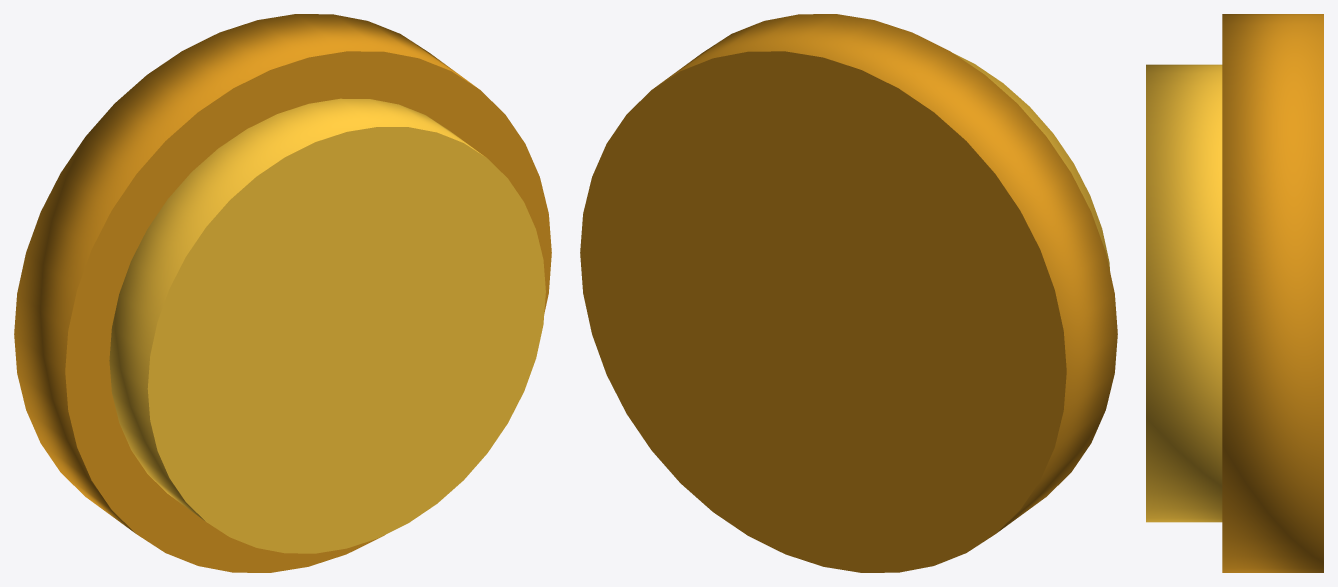
The model's file is icon_coin.glb.
3 views of the same model, side by side, from view 1: azimuth 30°, elevation 25°; view 2: azimuth 150°, elevation 25°; view 3: azimuth 270°, elevation 25° (orthographic).
Visible parts, largest first — view 1: icon_coin; view 2: icon_coin; view 3: icon_coin.
Boxes of the visible parts, box(x1,y1,x2,y2) form: icon_coin: box(14, 14, 551, 572); icon_coin: box(580, 14, 1117, 572); icon_coin: box(1146, 14, 1323, 572).
Bounding box in the file's own units: 0.44 × 0.44 × 0.14.
